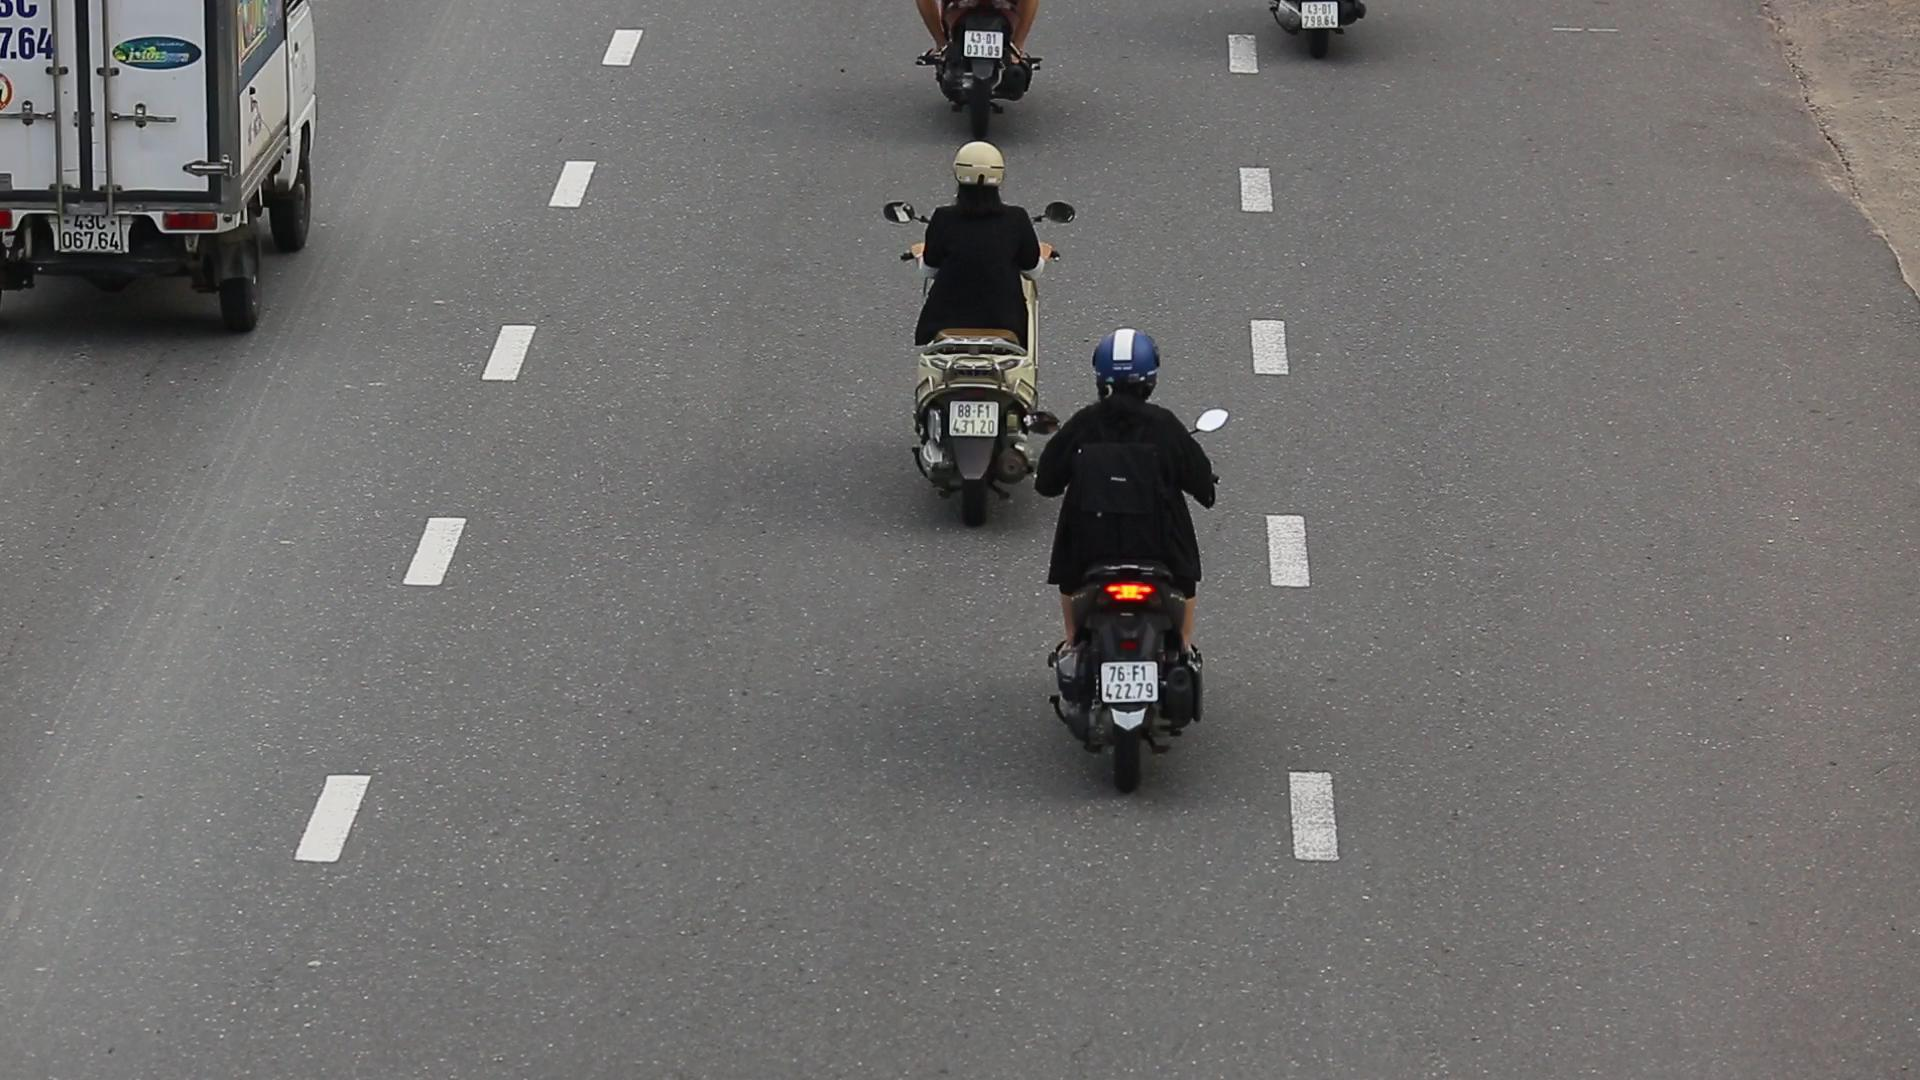motobike: (1040, 315, 1228, 798), (885, 132, 1069, 513)
